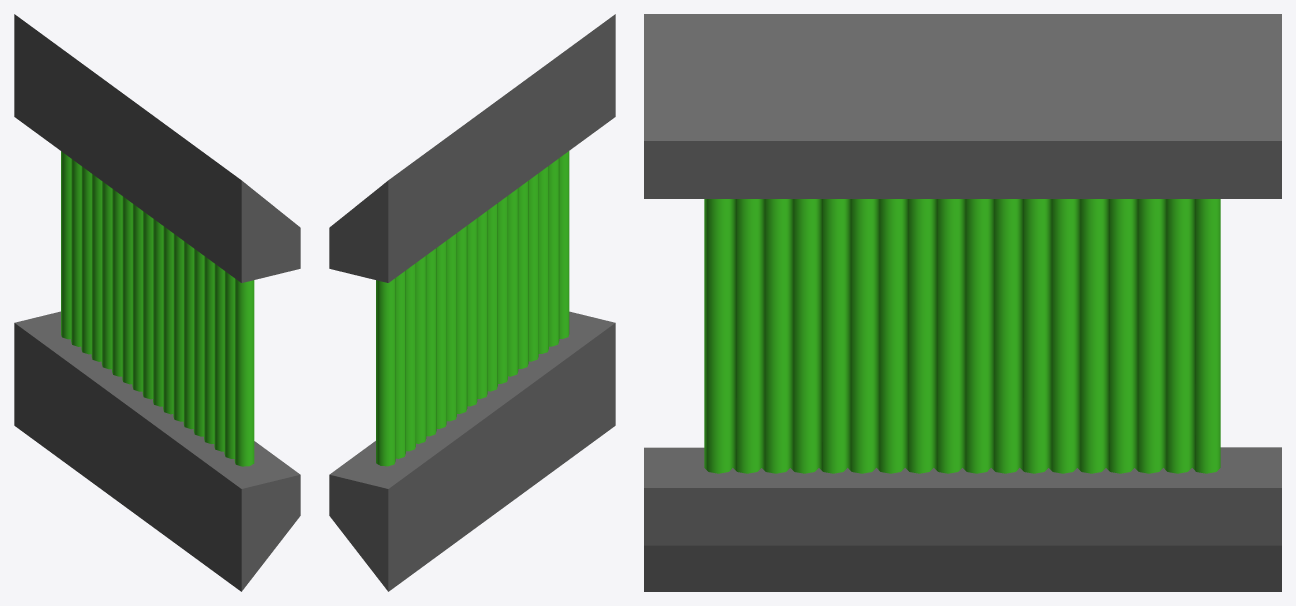
The picture shows the model from 3 angles, left to right: view 1: azimuth 30°, elevation 25°; view 2: azimuth 150°, elevation 25°; view 3: azimuth 270°, elevation 25°; orthographic projection. The views are drawn at different scales.
Parts seen in each view (by area): view 1: Face-I[ex]; view 2: Face-I[ex]; view 3: Face-I[ex].
Part boxes in pixels (box(x1,y1,x2,y2)): Face-I[ex]: box(14, 14, 300, 591); Face-I[ex]: box(329, 14, 615, 591); Face-I[ex]: box(644, 14, 1281, 591).
Size of the model in its own units: 0.6 by 4 by 4.
